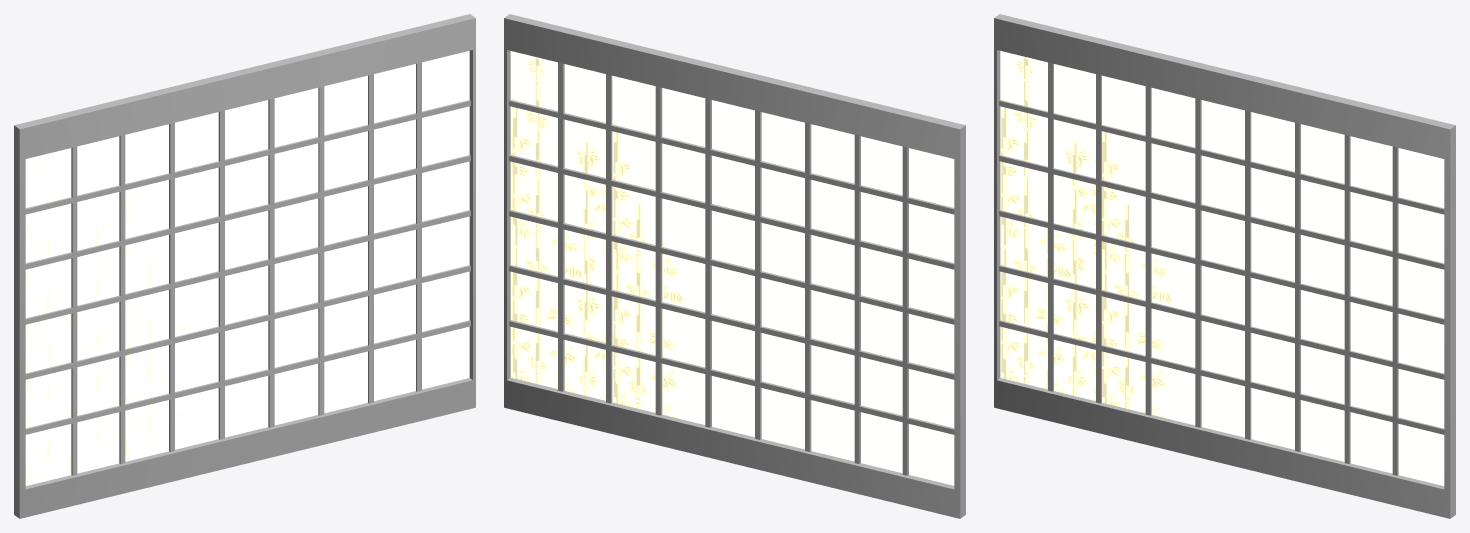
File: Window2.fbx
The picture shows the model from 3 angles, left to right: view 1: azimuth 30°, elevation 25°; view 2: azimuth 150°, elevation 25°; view 3: azimuth 330°, elevation 25°; orthographic projection.
Visible parts, largest first — view 1: Window2; view 2: Window2; view 3: Window2.
Part boxes in pixels (left/top/right/bottom): Window2: left=14, top=14, right=475, bottom=518; Window2: left=504, top=14, right=965, bottom=518; Window2: left=994, top=14, right=1455, bottom=518.
Size of the model in its own units: 232 by 190 by 7.78.
